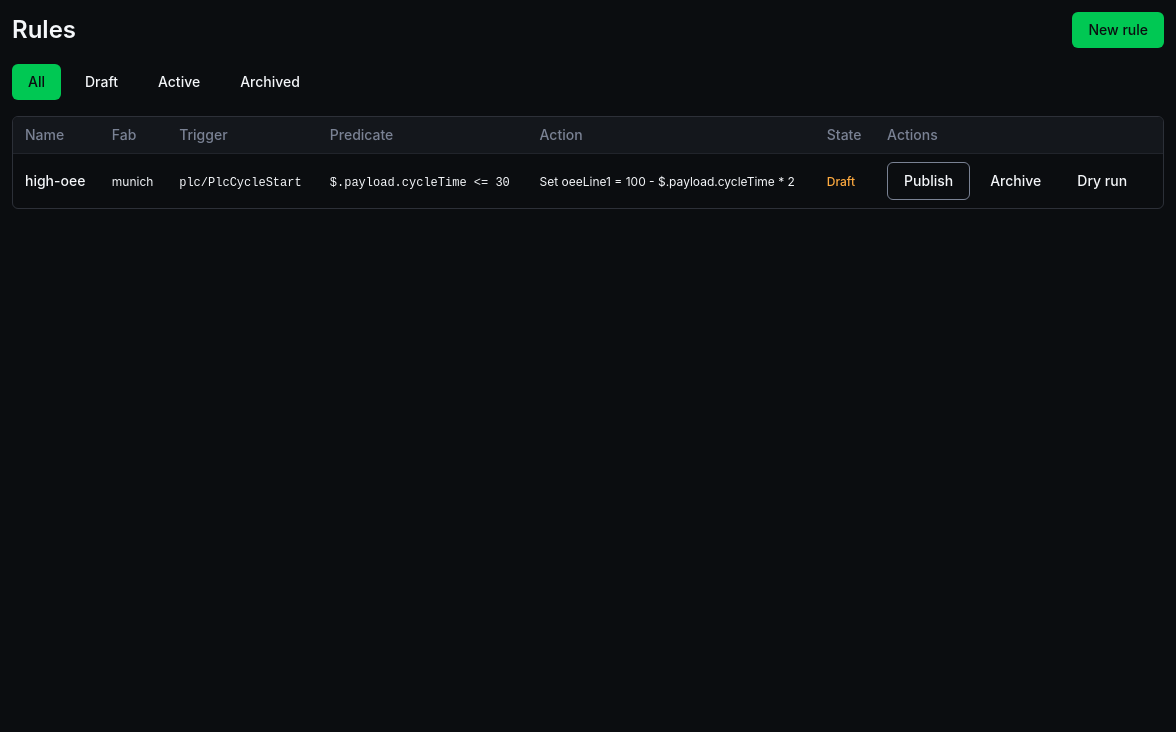
Test: RulesPage › Toggles the dry-run panel from a row action
The image size is (1176, 732).
Click the button "Dry run" at (1102, 181), box [1061, 162, 1143, 200]
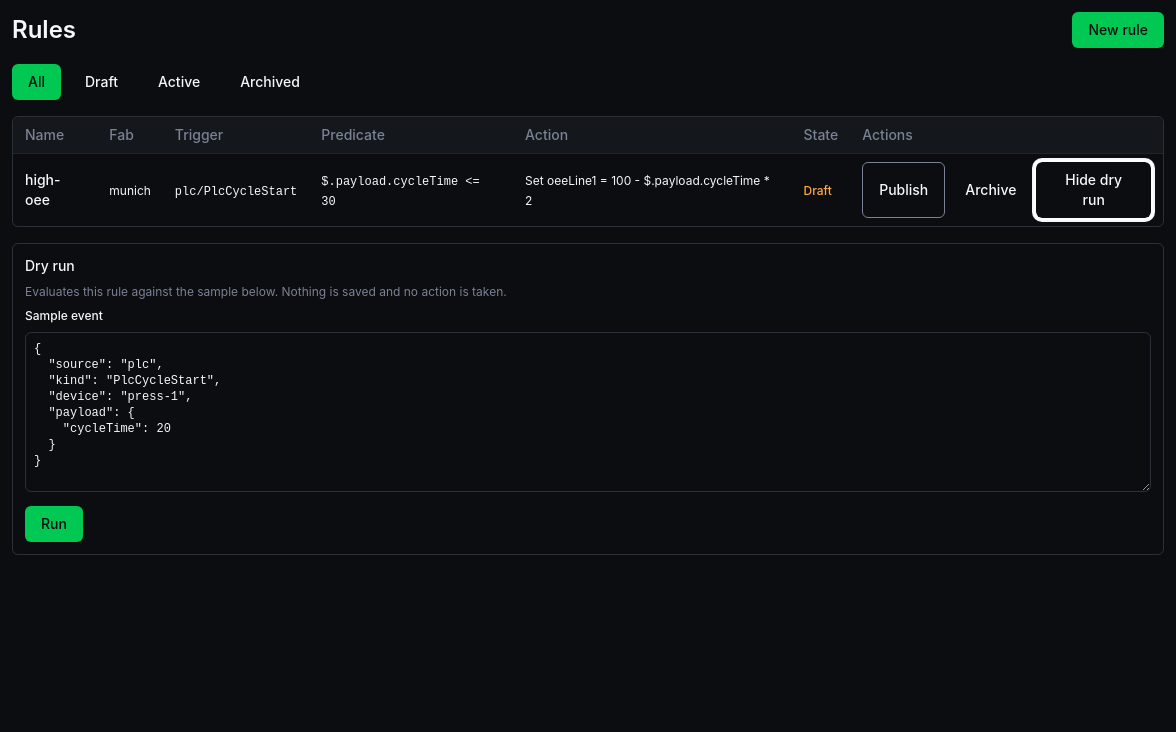
expect the element with test id "dry-run-panel" is shown: met, box [12, 243, 1164, 555]
Click the button "Hide dry run" at (1094, 190), box [1036, 162, 1151, 218]
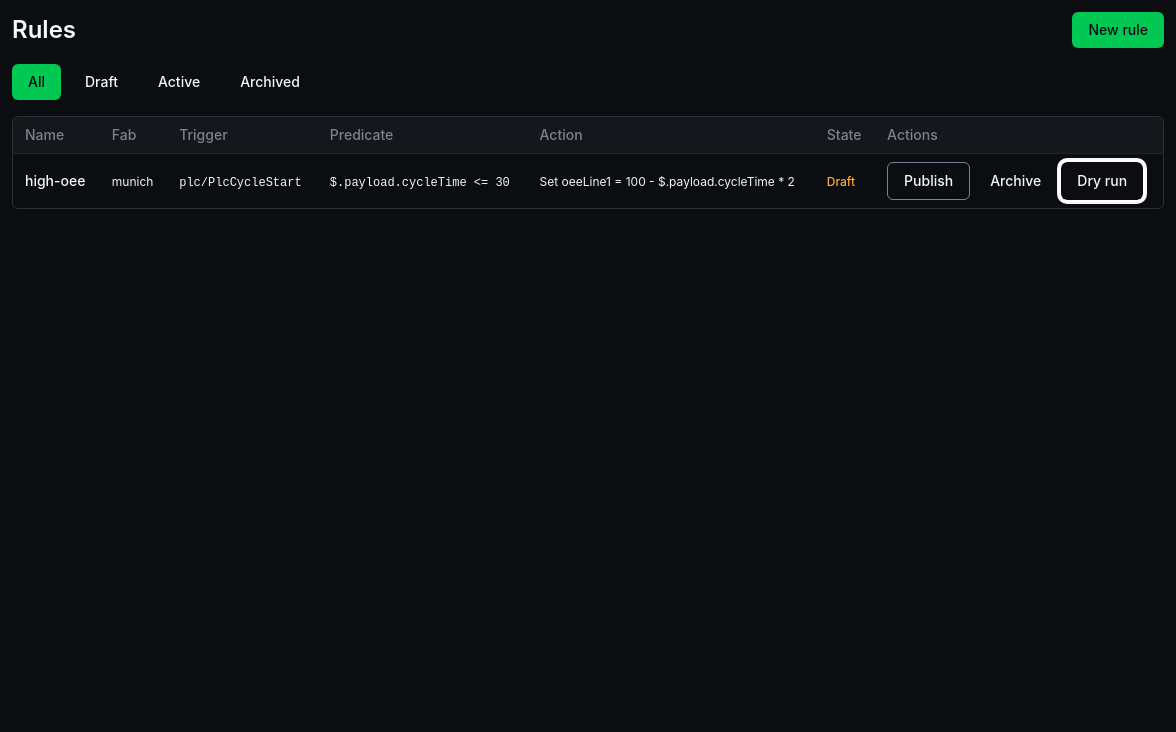
expect the element with test id "dry-run-panel" is gone: met
